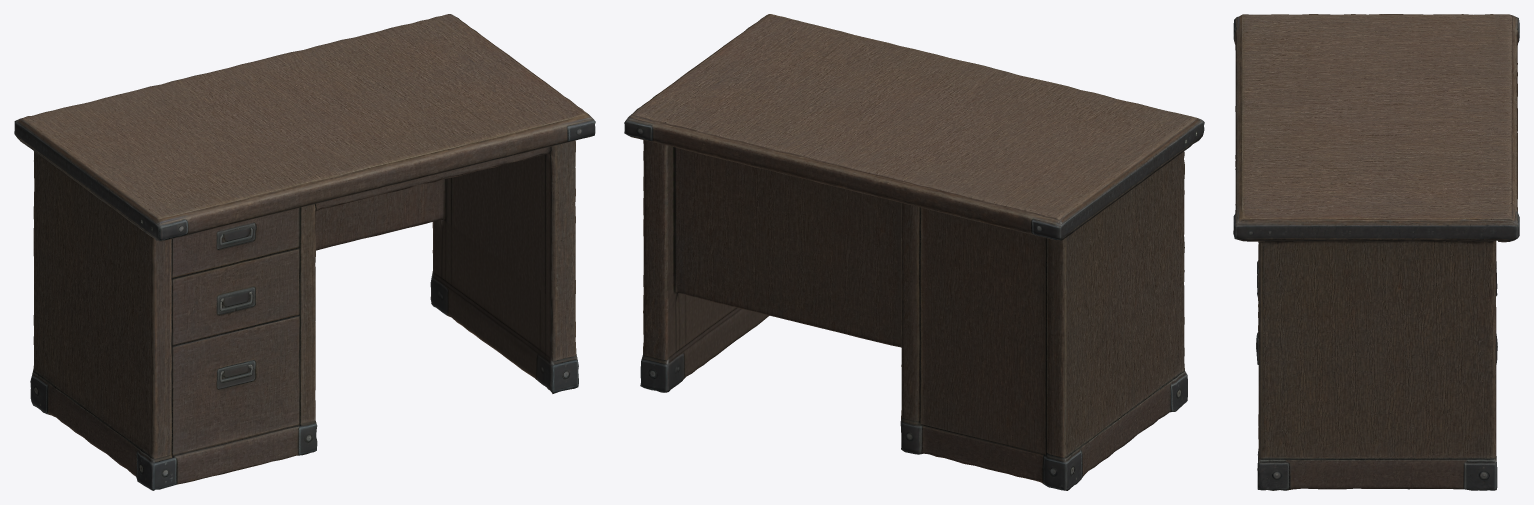
File: GuardRoom_Desk.glb
3 renders of one model, left to right at view 1: azimuth 30°, elevation 25°; view 2: azimuth 150°, elevation 25°; view 3: azimuth 270°, elevation 25°, orthographic. The views are drawn at different scales.
Visible parts, largest first — view 1: texture_mapping; view 2: texture_mapping; view 3: texture_mapping.
Part boxes in pixels (x1,y1,x2,y2): texture_mapping: (14,14,595,490); texture_mapping: (624,14,1204,490); texture_mapping: (1233,14,1519,490).
Size of the model in its own units: 1 by 0.6162 by 0.5822.
1 material, 1 textured.
